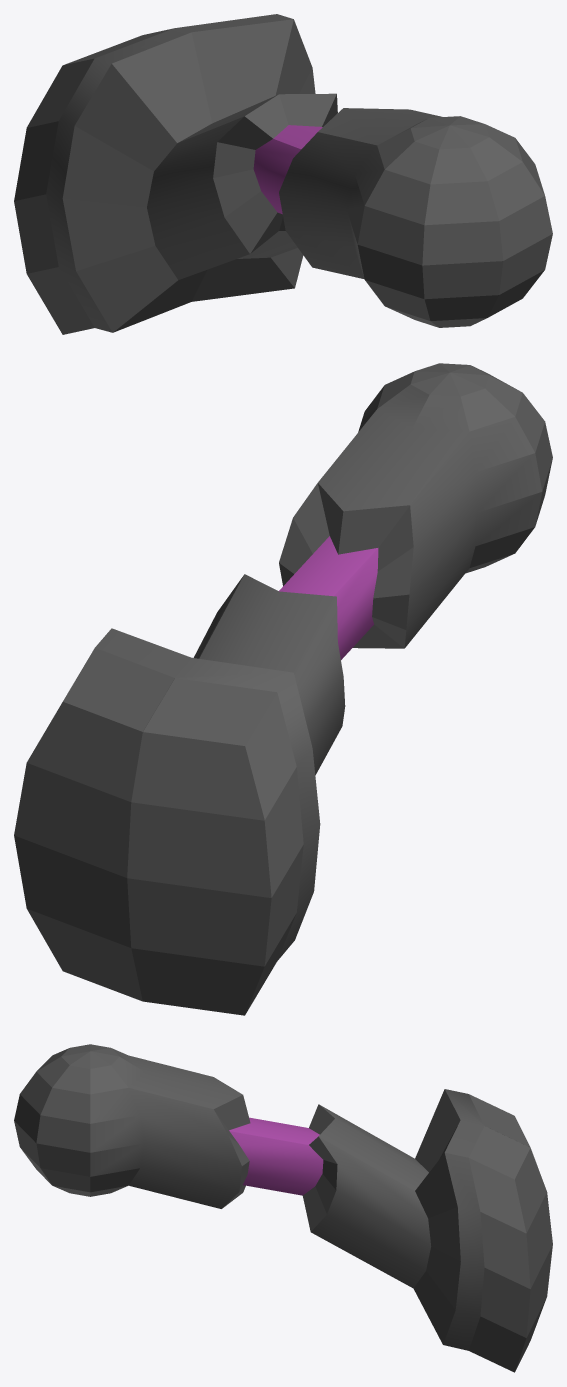
The model's file is camera pied.fbx.
The picture shows the model from 3 angles, top to bottom: view 1: azimuth 30°, elevation 25°; view 2: azimuth 150°, elevation 25°; view 3: azimuth 270°, elevation 25°; orthographic projection. The views are drawn at different scales.
Parts seen in each view (by area): view 1: pSphere1; view 2: pSphere1; view 3: pSphere1.
Part boxes in pixels (bbox=[...]): pSphere1: bbox=[14, 14, 552, 334]; pSphere1: bbox=[14, 363, 552, 1015]; pSphere1: bbox=[14, 1044, 552, 1372].
Bounding box in the file's own units: 0.5612 × 0.8413 × 1.42.
